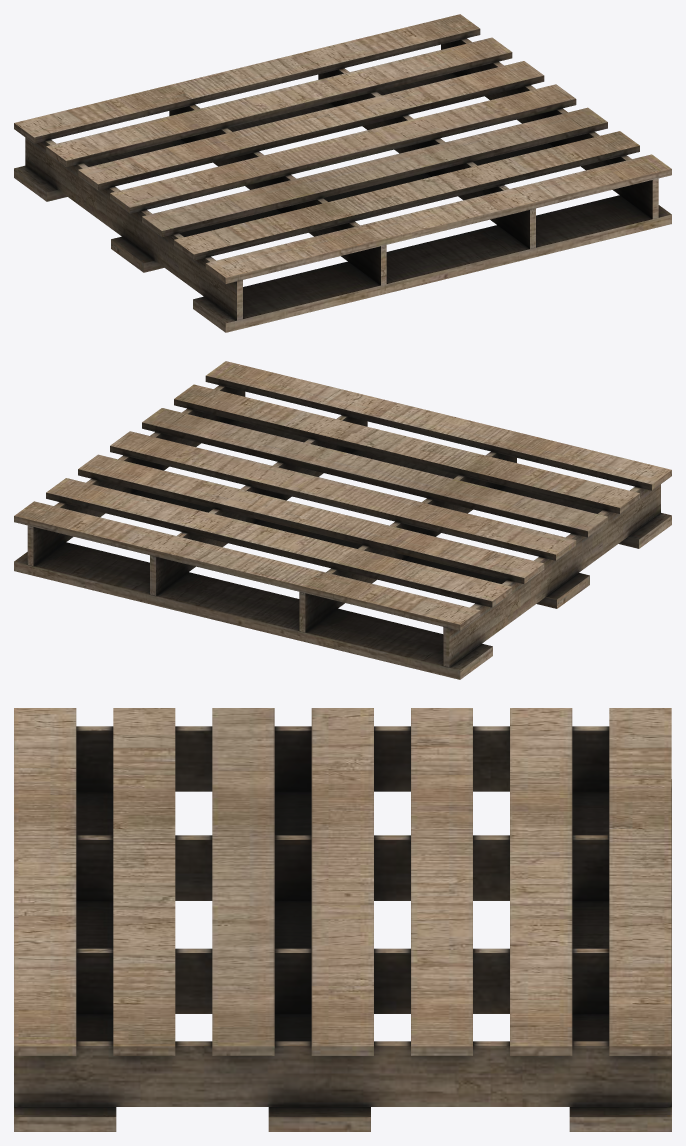
Rendered from Estiba.FBX.
3 views of the same model, one above another, from view 1: azimuth 30°, elevation 25°; view 2: azimuth 150°, elevation 25°; view 3: azimuth 270°, elevation 25° (orthographic). The views are drawn at different scales.
Visible parts, largest first — view 1: Estiba 013, Estiba, Estiba 009, Estiba 011, Estiba 010, Estiba 001, Estiba 008, Estiba 012, Estiba 007, Estiba 005, Estiba 006, Estiba 004 (+2 smaller); view 2: Estiba 003, Estiba 010, Estiba 011, Estiba 001, Estiba, Estiba 009, Estiba 012, Estiba 008, Estiba 007, Estiba 005, Estiba 006, Estiba 004 (+2 smaller); view 3: Estiba 005, Estiba, Estiba 012, Estiba 010, Estiba 009, Estiba 008, Estiba 001, Estiba 011, Estiba 007, Estiba 006, Estiba 004, Estiba 003 (+2 smaller).
Boxes of the visible parts, x1,y1,x2,y2 form: Estiba 013: (193, 195, 671, 332); Estiba: (110, 84, 576, 213); Estiba 009: (46, 37, 512, 166); Estiba 011: (78, 61, 544, 190); Estiba 010: (14, 14, 480, 143); Estiba 001: (205, 154, 671, 283); Estiba 008: (174, 131, 639, 260); Estiba 012: (142, 107, 607, 237); Estiba 007: (25, 137, 242, 320); Estiba 005: (441, 38, 658, 218); Estiba 006: (169, 104, 386, 285); Estiba 004: (318, 68, 535, 248); Estiba 003: (14, 542, 492, 679); Estiba 010: (14, 501, 480, 630); Estiba 011: (78, 454, 544, 583); Estiba 001: (205, 361, 671, 490); Estiba: (110, 431, 576, 560); Estiba 009: (46, 478, 512, 607); Estiba 012: (142, 408, 607, 537); Estiba 008: (174, 384, 639, 513); Estiba 007: (443, 484, 660, 667); Estiba 005: (27, 385, 245, 565); Estiba 006: (299, 451, 516, 632); Estiba 004: (150, 415, 367, 595); Estiba 005: (14, 1041, 671, 1106); Estiba: (311, 708, 373, 1055); Estiba 012: (212, 708, 274, 1055); Estiba 010: (609, 708, 671, 1055); Estiba 009: (510, 708, 572, 1055); Estiba 008: (113, 708, 175, 1055); Estiba 001: (14, 708, 76, 1055); Estiba 011: (411, 708, 472, 1055); Estiba 007: (76, 726, 609, 791); Estiba 006: (76, 835, 609, 900); Estiba 004: (76, 948, 609, 1013); Estiba 003: (569, 779, 671, 1131).
Bounding box in the file's own units: 174 × 20.56 × 143.
Materials: 1 (1 with a texture image).
